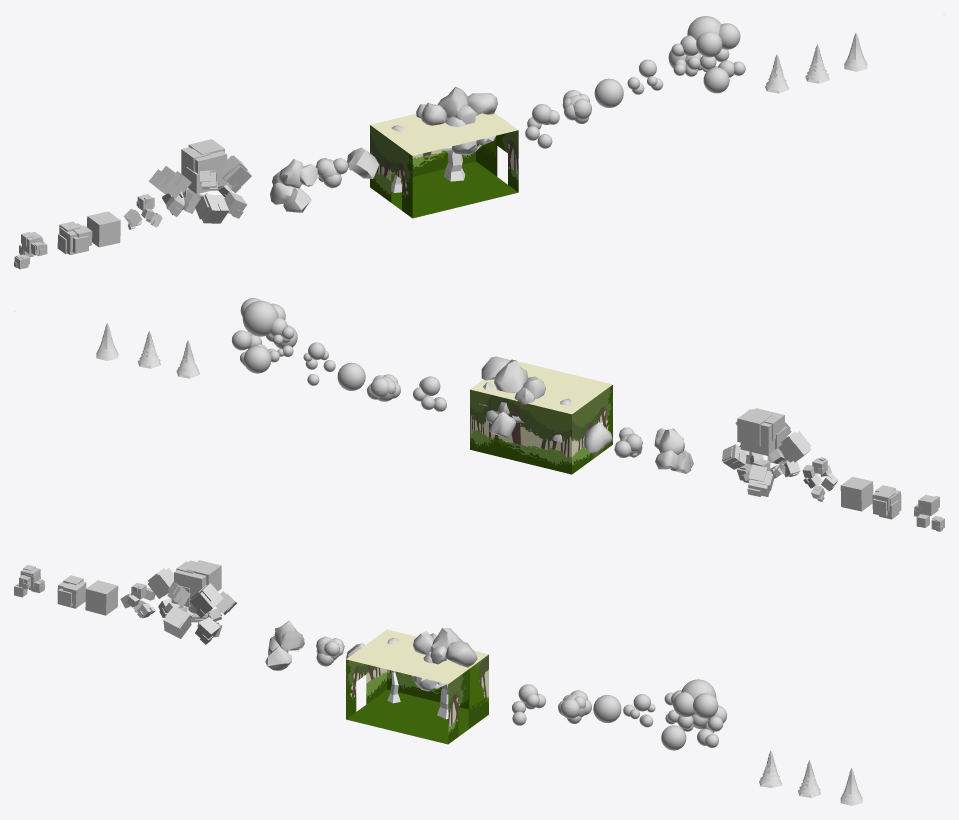
File: forest.glb
3 renders of one model, top to bottom at view 1: azimuth 30°, elevation 25°; view 2: azimuth 150°, elevation 25°; view 3: azimuth 330°, elevation 25°, orthographic. The views are drawn at different scales.
Visible parts, largest first — view 1: DarkGreenTree_mergedObject, Cube; view 2: DarkGreenTree_mergedObject, Cube; view 3: DarkGreenTree_mergedObject, Cube.
Boxes of the visible parts, <box> form: DarkGreenTree_mergedObject: <box>14,14,944,269</box>; Cube: <box>370,112,518,218</box>; DarkGreenTree_mergedObject: <box>14,298,944,531</box>; Cube: <box>470,359,612,474</box>; DarkGreenTree_mergedObject: <box>14,560,944,805</box>; Cube: <box>346,629,488,744</box>.
Bounding box in the file's own units: 34.24 × 3.27 × 3.55.
Materials: 5 (1 with a texture image).
